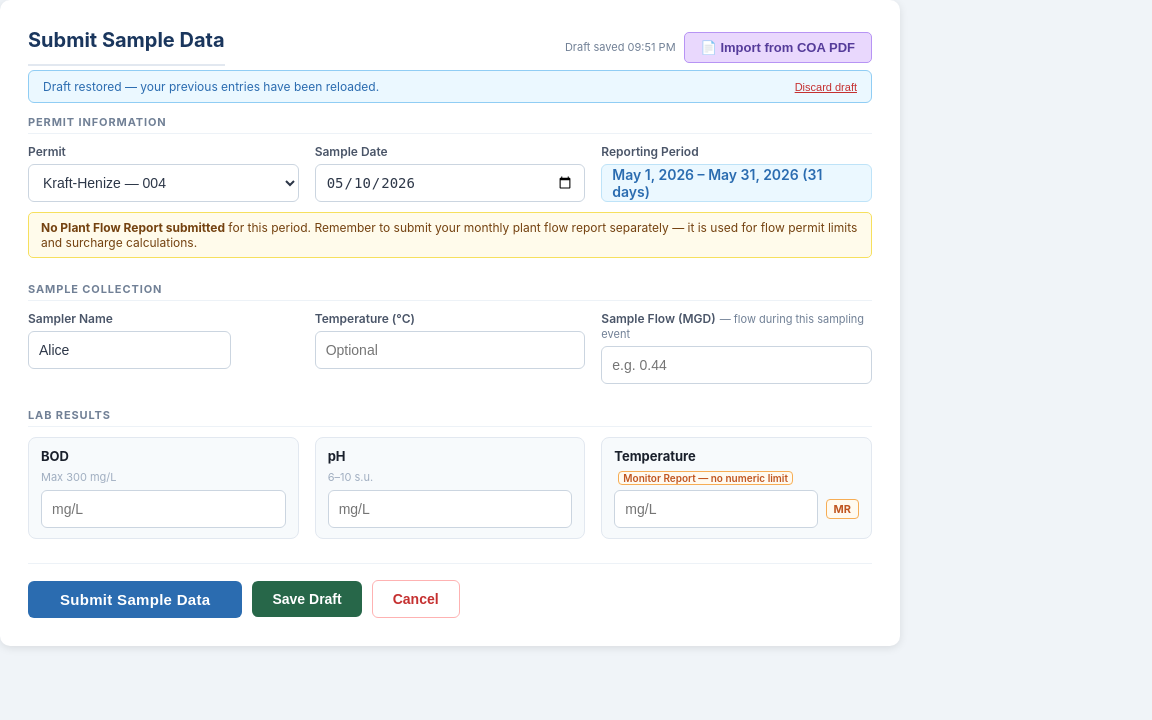
SampleForm — draft persistence › discard draft button clears fields and hides the restored banner
The image size is (1152, 720).
Expected: the text "Draft restored — your previous entries have been reloaded." is shown, [43,79,379,94]
Click the button "Discard draft".
click(826, 86)  # box [795,80,857,92]
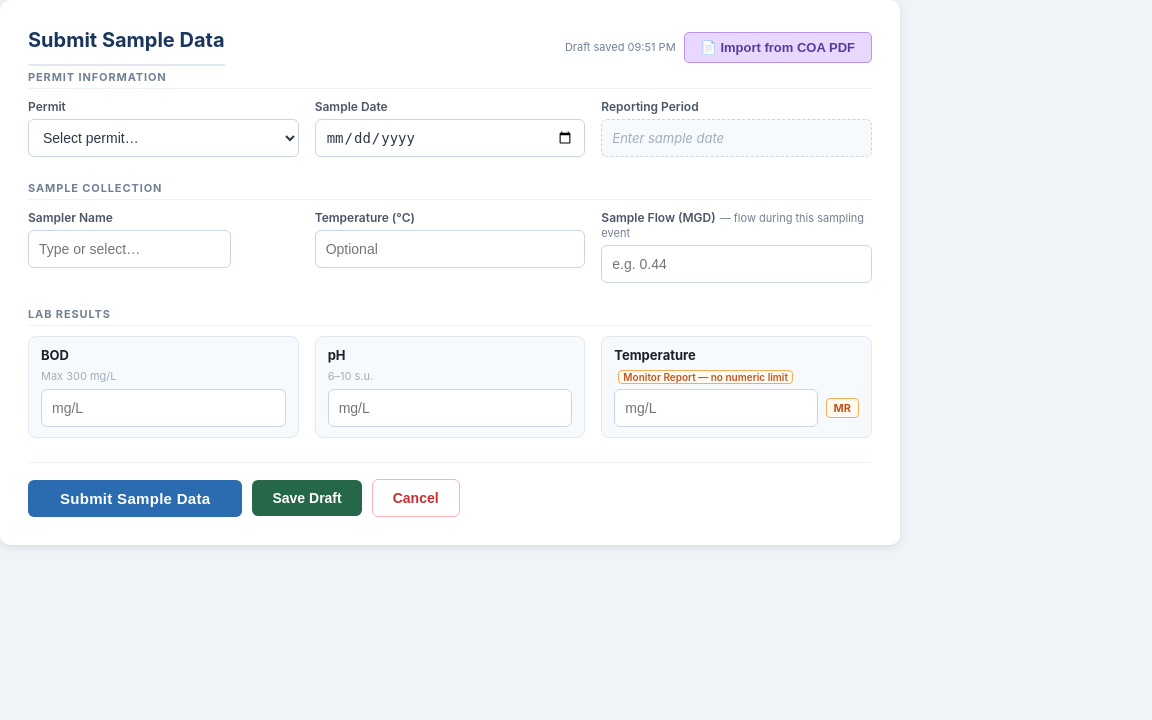
Expected: the text "Draft restored" is gone
Expected: the date field is empty, [315,119,585,157]
Expected: the field with placeholder "Type or select…" is empty, [28,230,231,268]
